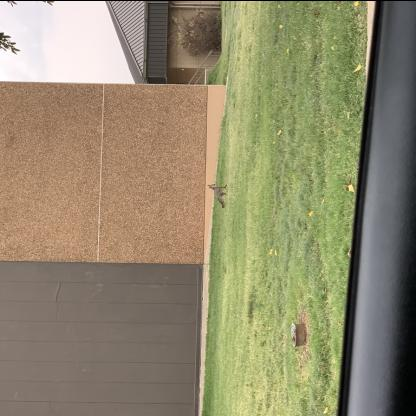zorro: (207, 180, 228, 209)
